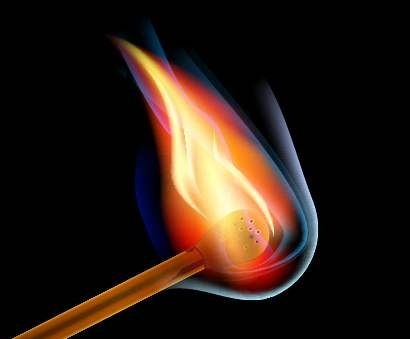fire: (110, 25, 289, 267)
